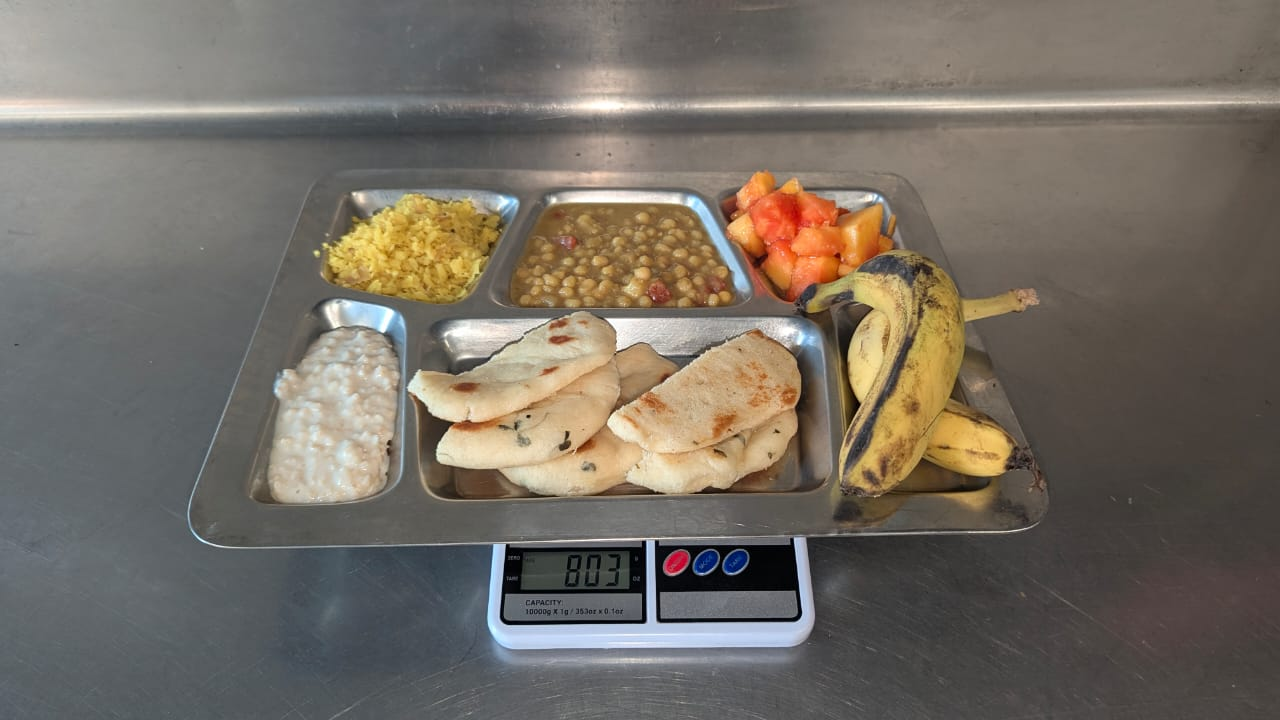bowl: (411, 311, 831, 513), (805, 255, 1039, 554), (488, 186, 733, 325), (272, 299, 405, 536), (709, 179, 924, 315), (309, 180, 497, 310)
